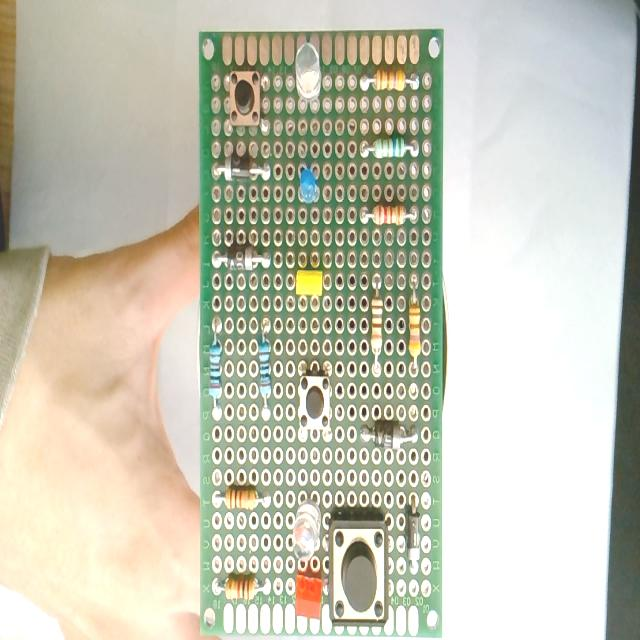diode: (211, 242, 275, 281), (358, 414, 420, 454), (211, 148, 275, 186), (404, 479, 424, 585)
led: (290, 484, 324, 566), (292, 558, 326, 628), (297, 30, 323, 120), (291, 256, 327, 306), (298, 146, 320, 213)
resistor: (254, 313, 279, 424), (355, 62, 420, 104), (355, 130, 421, 170), (211, 478, 275, 516), (207, 312, 228, 422), (405, 260, 424, 380), (355, 197, 422, 231), (212, 570, 274, 604), (368, 271, 386, 381)
switch: (327, 508, 391, 630), (224, 66, 270, 140), (296, 356, 334, 444)
